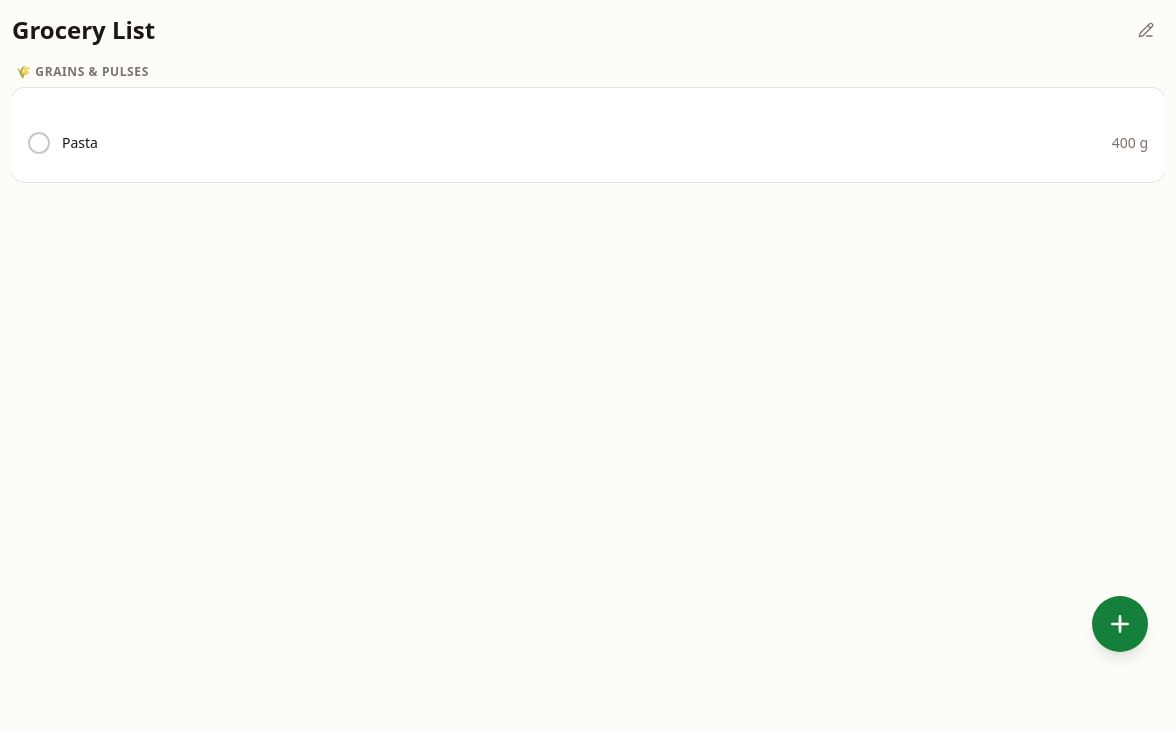
GroceryListPage › shows all-done state (cheer) after tapping the last item away
This screenshot has width=1176, height=732.
Expected: the text "Pasta" is shown, [62, 133, 98, 153]
Click the button "Pasta 400 g": (80, 142) [28, 120, 1148, 166]
Wait 400 ms
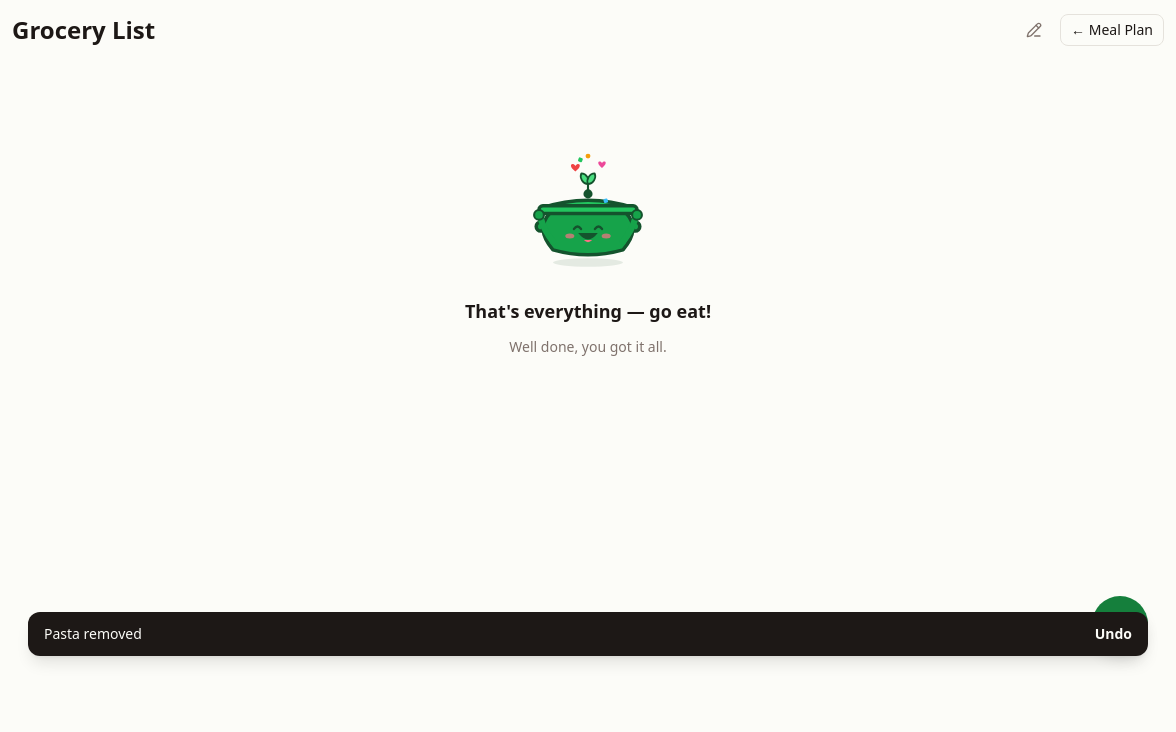
Expected: the text "That's everything — go eat!" is shown, [465, 297, 711, 325]
